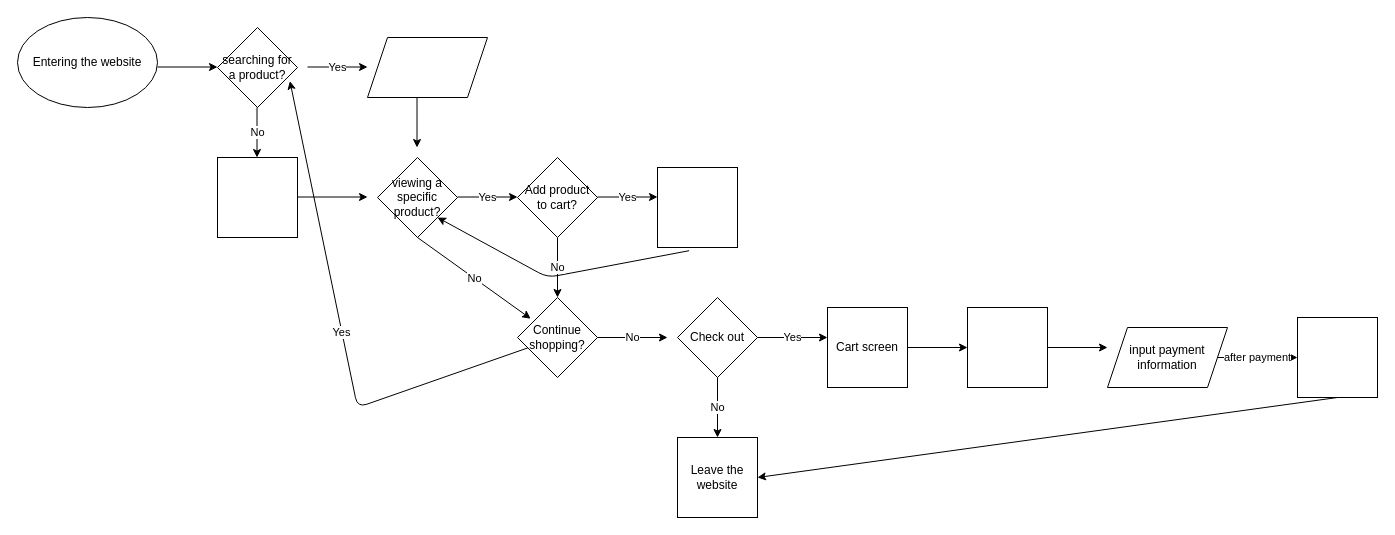
Some shapes in this 1395 by 535 pixel diagram are drawn without their labels. Here are the shapes that lost their labels. From the top down, the centre of each, then its label:
At pixel 427 67: "input for search".
At pixel 257 197: "exploring the products on the home page".
At pixel 697 207: "Receive an added to cart confirmation".
At pixel 1007 347: "View payment".
At pixel 1337 357: "order confirmation and send email".
